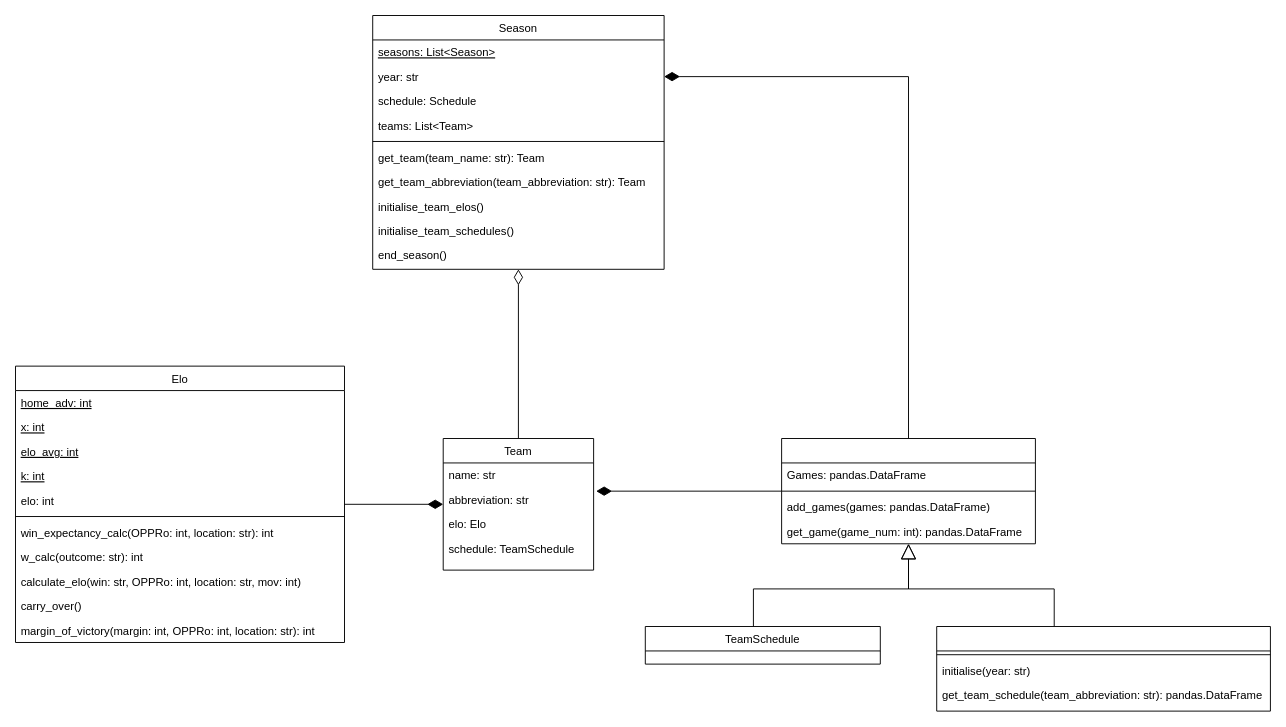
The diagram is 1286 pixels wide and 727 high, and some of its shapes have lost their labels. Here are the shapes that lost their labels. From the top down, the box of each, then its label:
(781, 438, 1035, 544): Schedule
(936, 626, 1270, 711): SeasonSchedule
